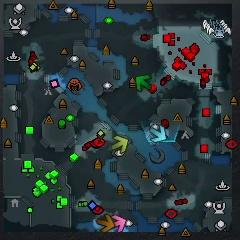x1: (111, 214, 126, 232)
x2: (111, 135, 128, 153)
x3: (149, 125, 166, 142)
x4: (135, 75, 152, 91)
x5: (96, 214, 114, 232)
